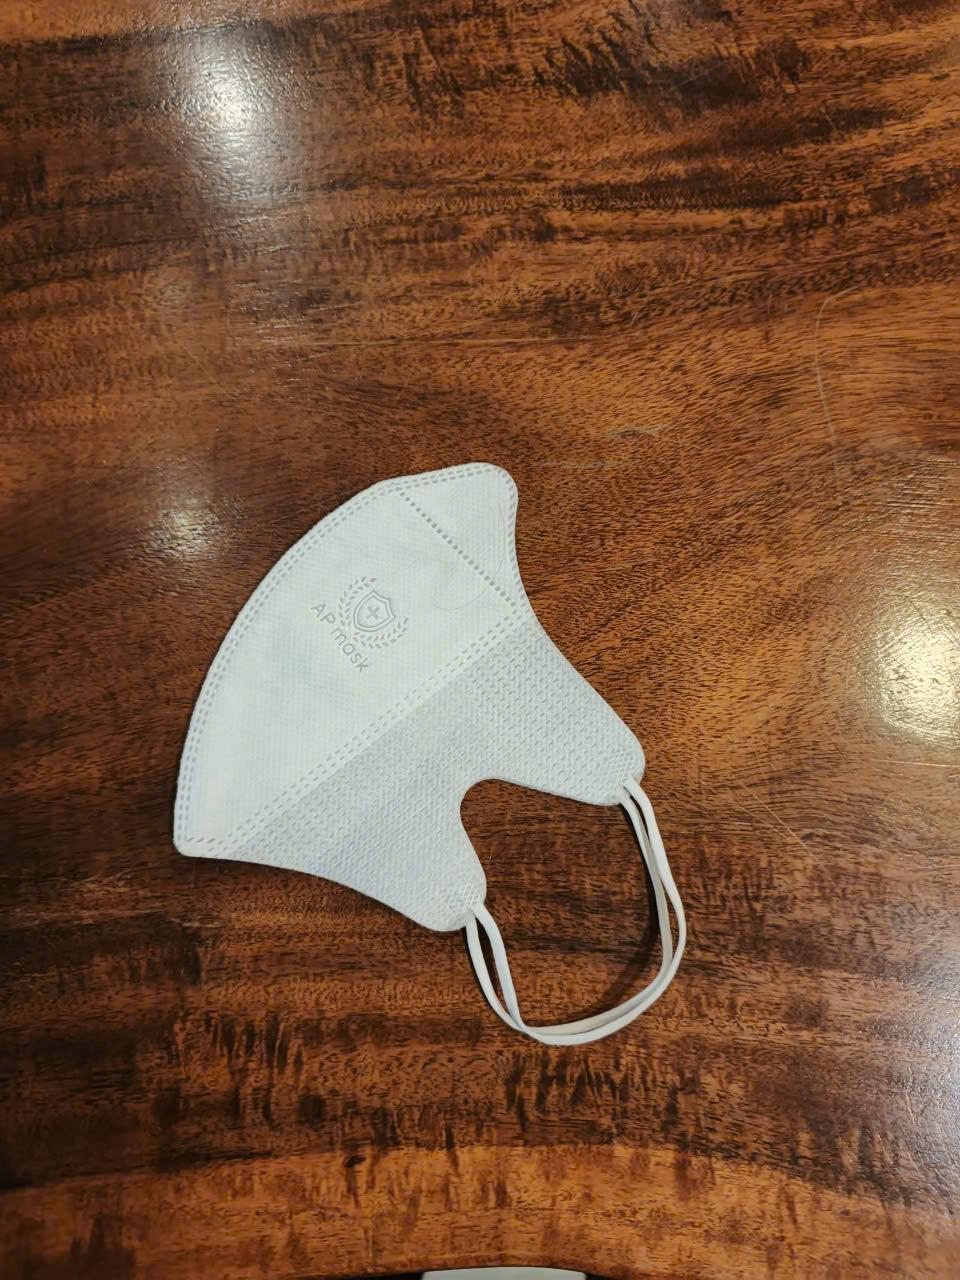Con lai: (170, 458, 686, 1043)
